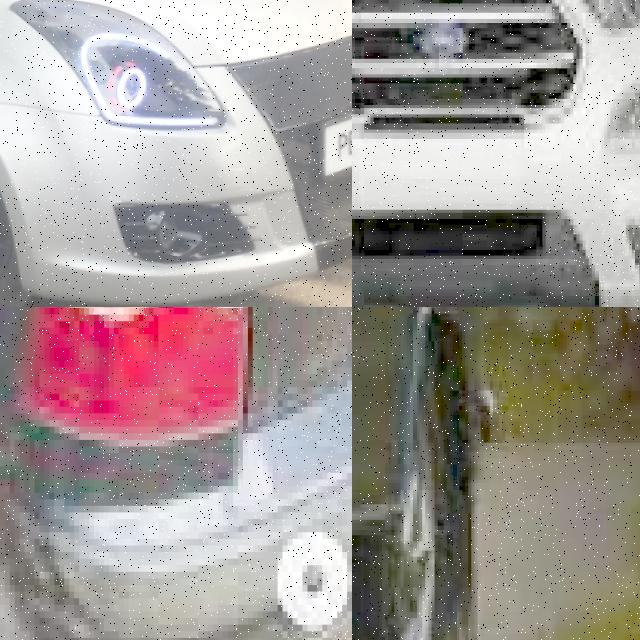car: (0, 0, 352, 282), (352, 0, 640, 307), (0, 307, 352, 525), (352, 307, 493, 640)
